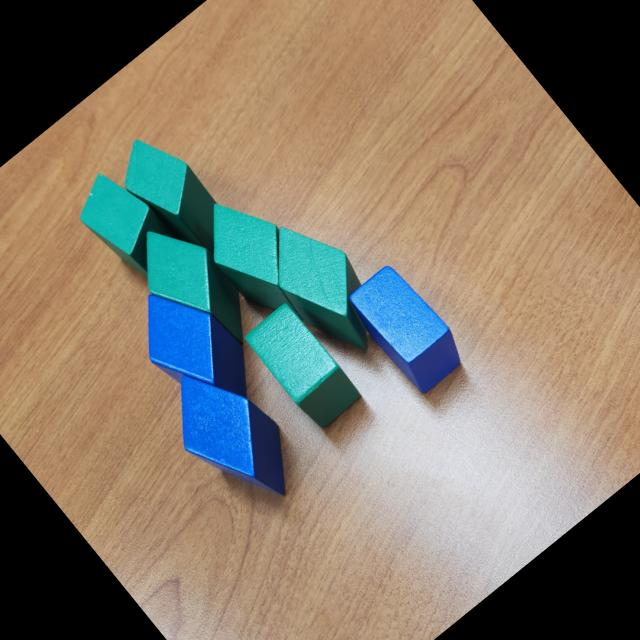blue: (147, 347, 315, 526), (117, 268, 271, 431), (341, 258, 474, 400)
green: (248, 204, 402, 369), (118, 207, 268, 369), (104, 122, 242, 272), (184, 181, 319, 324), (240, 298, 366, 434), (66, 160, 188, 290)
